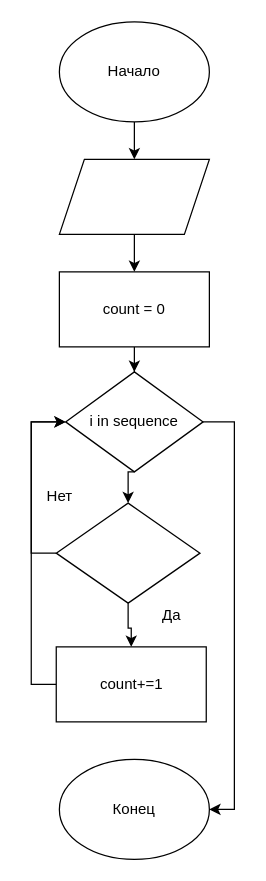
The diagram is 266 pixels wide and 881 high, and some of its shapes have lost their labels. Here are the shapes that lost their labels. From the top down, the centre of each, then its label:
At (x=133, y=196): "Ввод sequence target".
At (x=127, y=552): "i == target".
